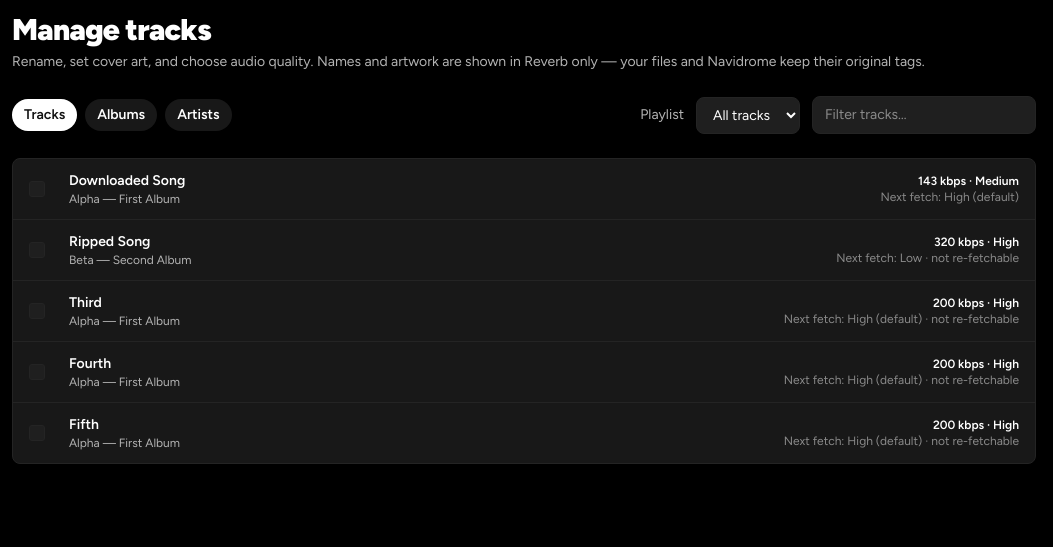
Scenario: ManageTracks › selection gestures › shift-clicking takes everything between it and the last row picked
Press the mouse on the list item "Ripped Song" at (524, 250), box [13,220,1035,281]
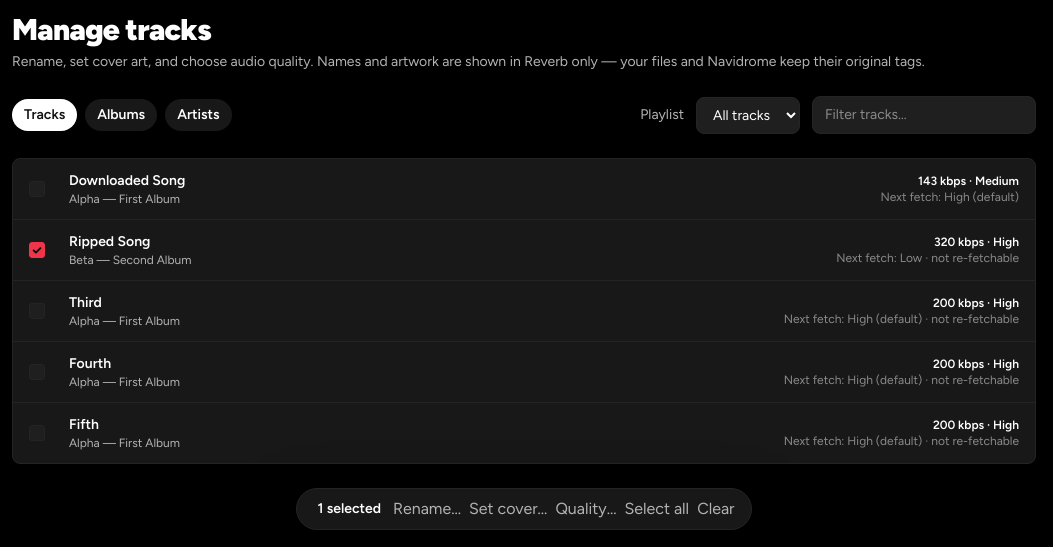
Click the list item "Fourth" at (524, 372), box [13,342,1035,403]
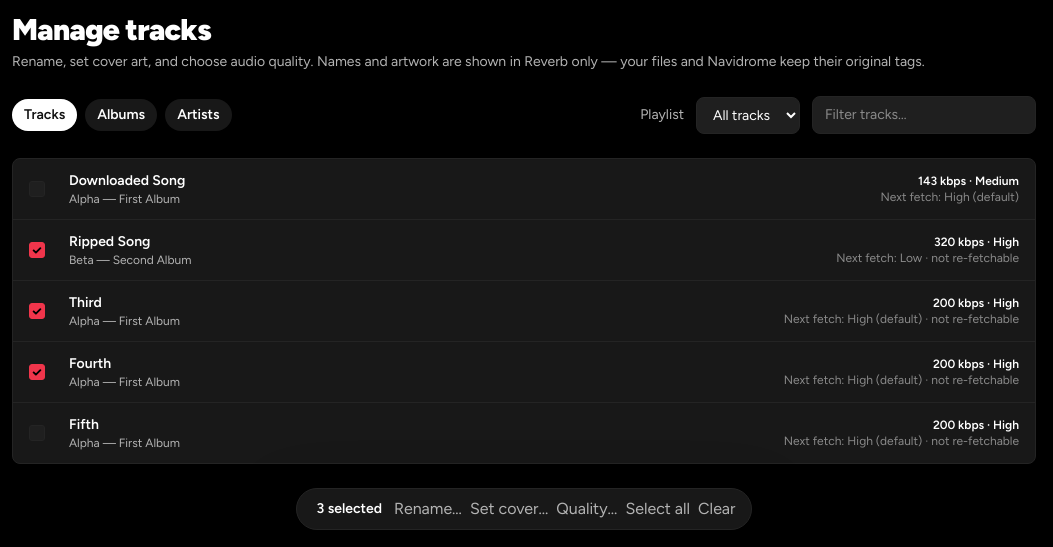
Now the checkbox named "Select Ripped Song" is checked, box [29,242,45,258]
Now the text "3 selected" is shown, box [312,499,386,519]
Now the checkbox named "Select Third" is checked, box [29,303,45,319]
